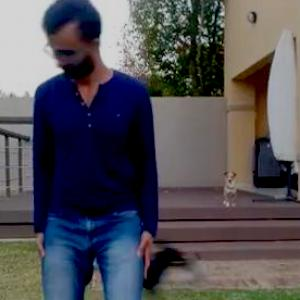follow: (26, 0, 157, 299)
